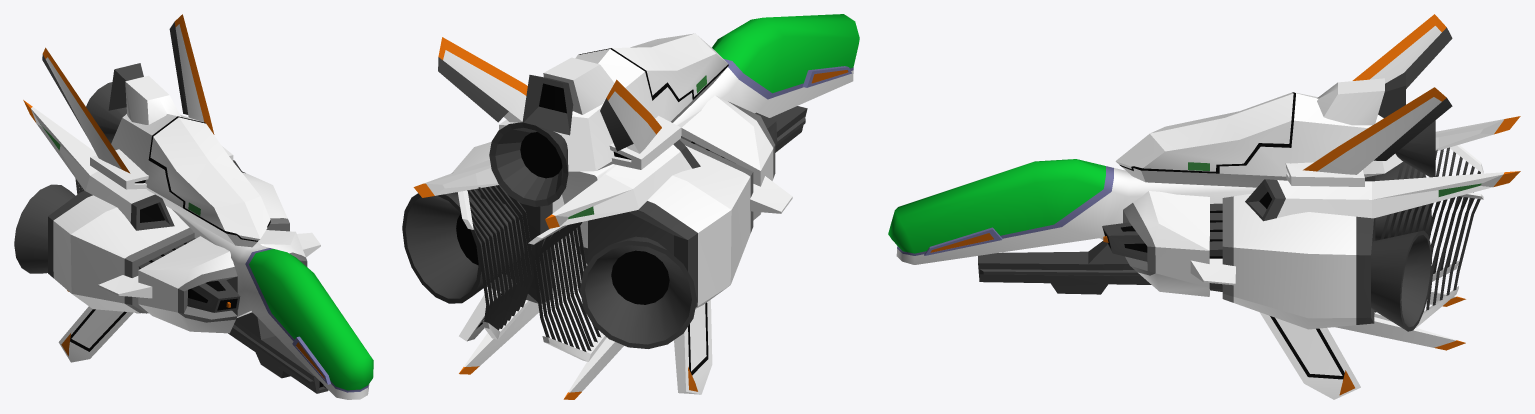
File: player3.glb
3 views of the same model, side by side, from view 1: azimuth 30°, elevation 25°; view 2: azimuth 150°, elevation 25°; view 3: azimuth 270°, elevation 25° (orthographic). The views are drawn at different scales.
Visible parts, largest first — view 1: r-90; view 2: r-90; view 3: r-90.
Boxes of the visible parts, x1=… form: r-90: x1=14, y1=14, x2=373, y2=399; r-90: x1=402, y1=14, x2=859, y2=399; r-90: x1=888, y1=14, x2=1520, y2=399.
Bounding box in the file's own units: 5.1 × 5.81 × 11.03.
1 material, 1 textured.
